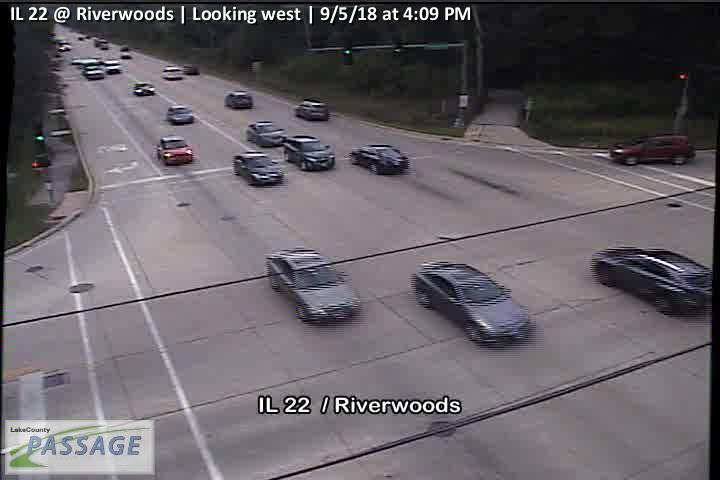Sedan: (410, 258, 530, 346), (591, 242, 712, 318), (265, 247, 362, 325), (608, 134, 695, 168), (231, 148, 284, 186), (348, 144, 411, 174), (243, 120, 288, 147), (154, 134, 193, 164), (295, 97, 330, 120), (165, 104, 195, 124), (225, 89, 254, 109), (131, 80, 155, 95)
Truck: (279, 132, 336, 169)
